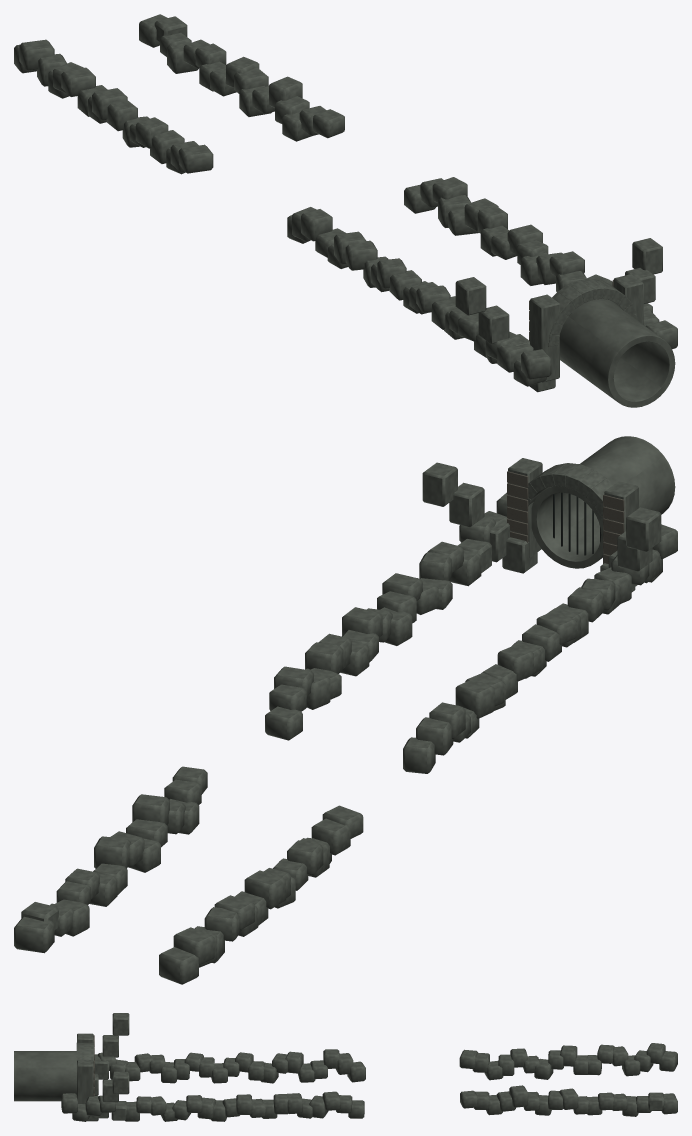
Rendered from level_camp_creek_engineering_refined.glb.
3 views of the same model, one above another, from view 1: azimuth 30°, elevation 25°; view 2: azimuth 150°, elevation 25°; view 3: azimuth 270°, elevation 25° (orthographic). The views are drawn at different scales.
Parts seen in each view (by area): view 1: level_camp_creek_engineering_refined; view 2: level_camp_creek_engineering_refined; view 3: level_camp_creek_engineering_refined.
Boxes of the visible parts, bbox=[...] form: level_camp_creek_engineering_refined: bbox=[14, 14, 677, 407]; level_camp_creek_engineering_refined: bbox=[14, 436, 677, 984]; level_camp_creek_engineering_refined: bbox=[14, 1013, 677, 1121].
Size of the model in its own units: 6.57 by 2.79 by 26.07.
Materials: 3 (3 with a texture image).
